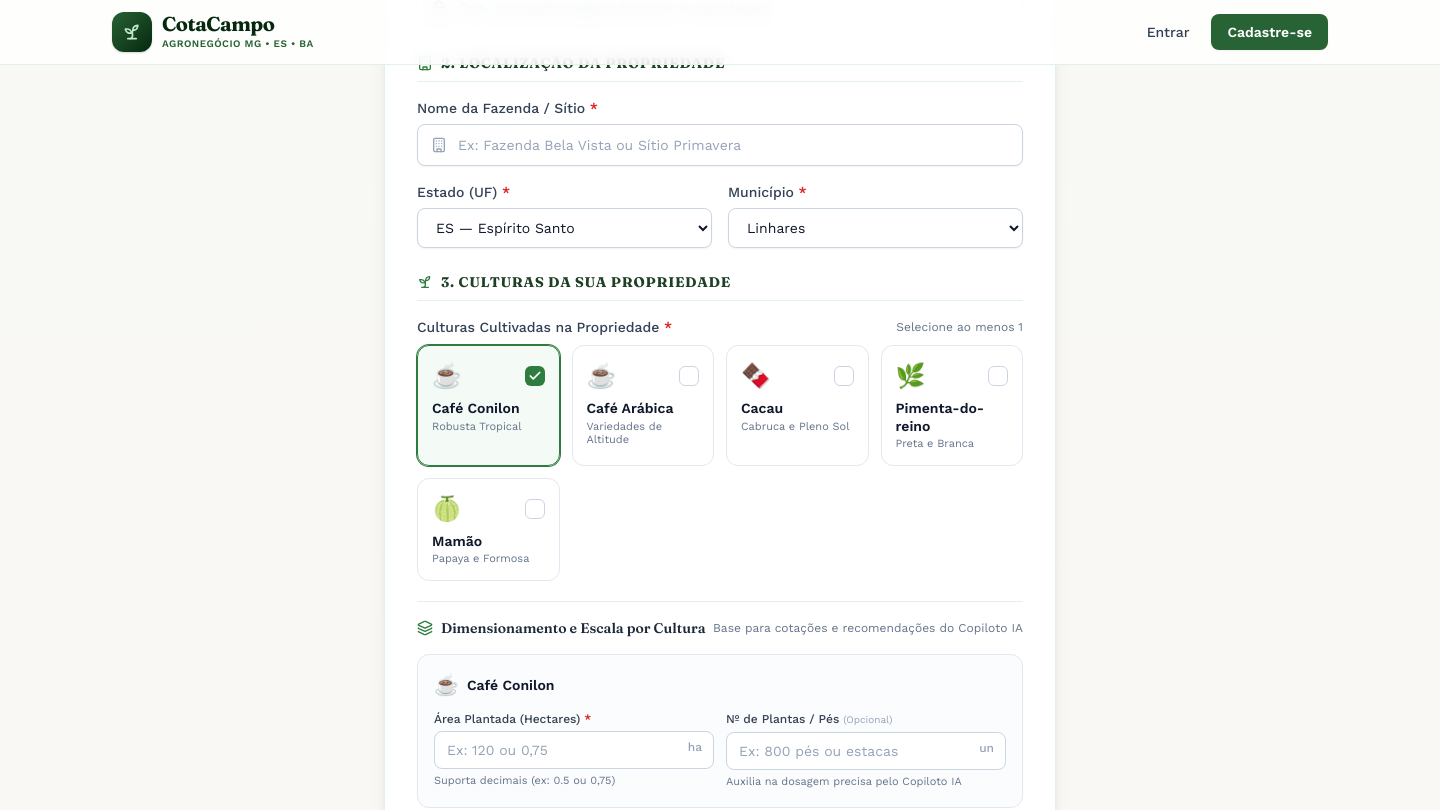
RegisterPage (US01 & US01.1 - Detalhamento de Área Plantada e Escala por Cultura) › Validação negativa: bloqueio de submissão e foco no primeiro campo com erro quando culturas vazias
This screenshot has width=1440, height=810.
(page scrolled)
Note: Desmarca a cultura Café Conilon inicial para deixar 0 culturas selecionadas
Click the checkbox labelled "☕ Café Conilon Robusta Tropical" at (488, 405), box [417,345,560,466]
(page scrolled)
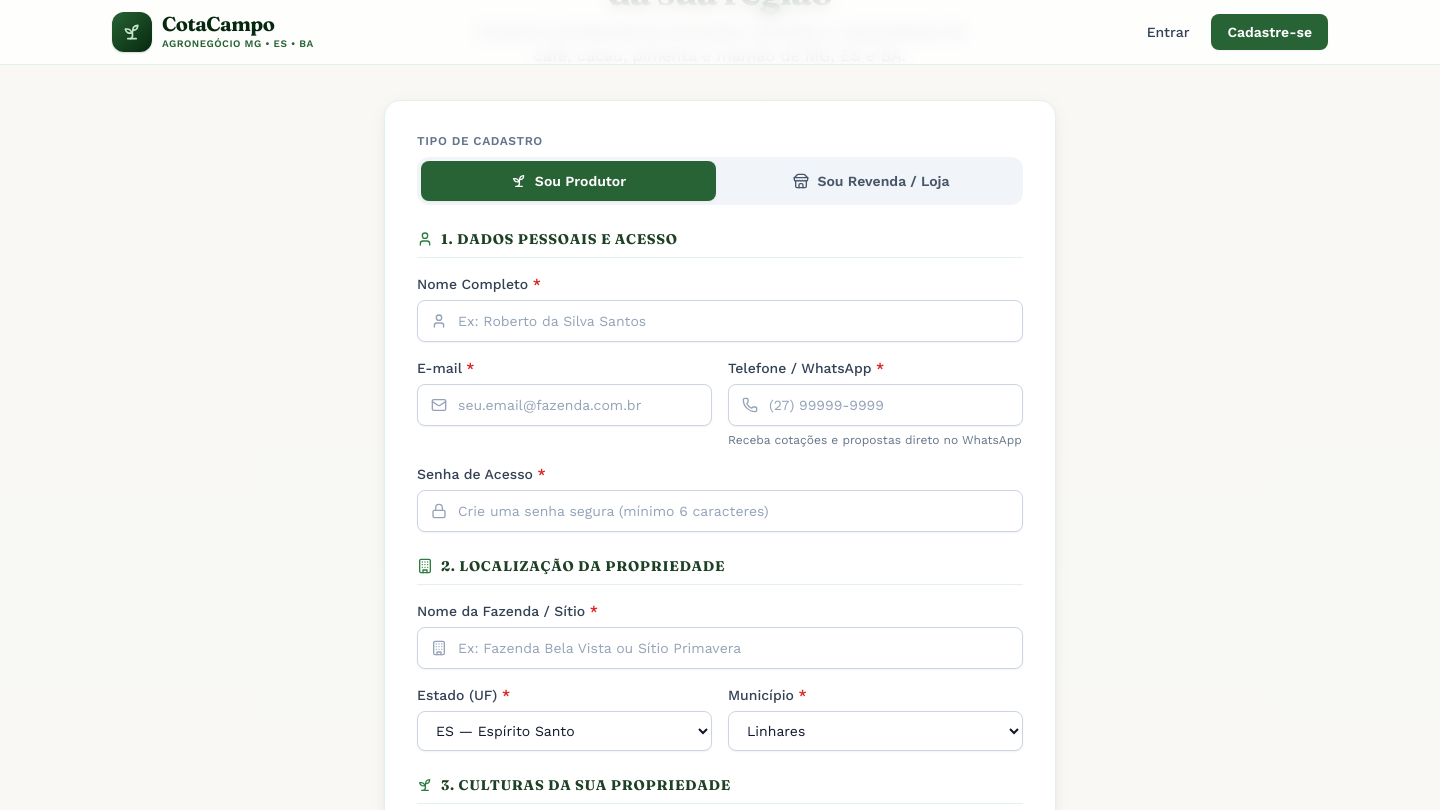
Note: Digita WhatsApp inválido
Type "123" into the field labelled "Telefone / WhatsApp *" at (876, 405), box [728,384,1023,426]
(page scrolled)
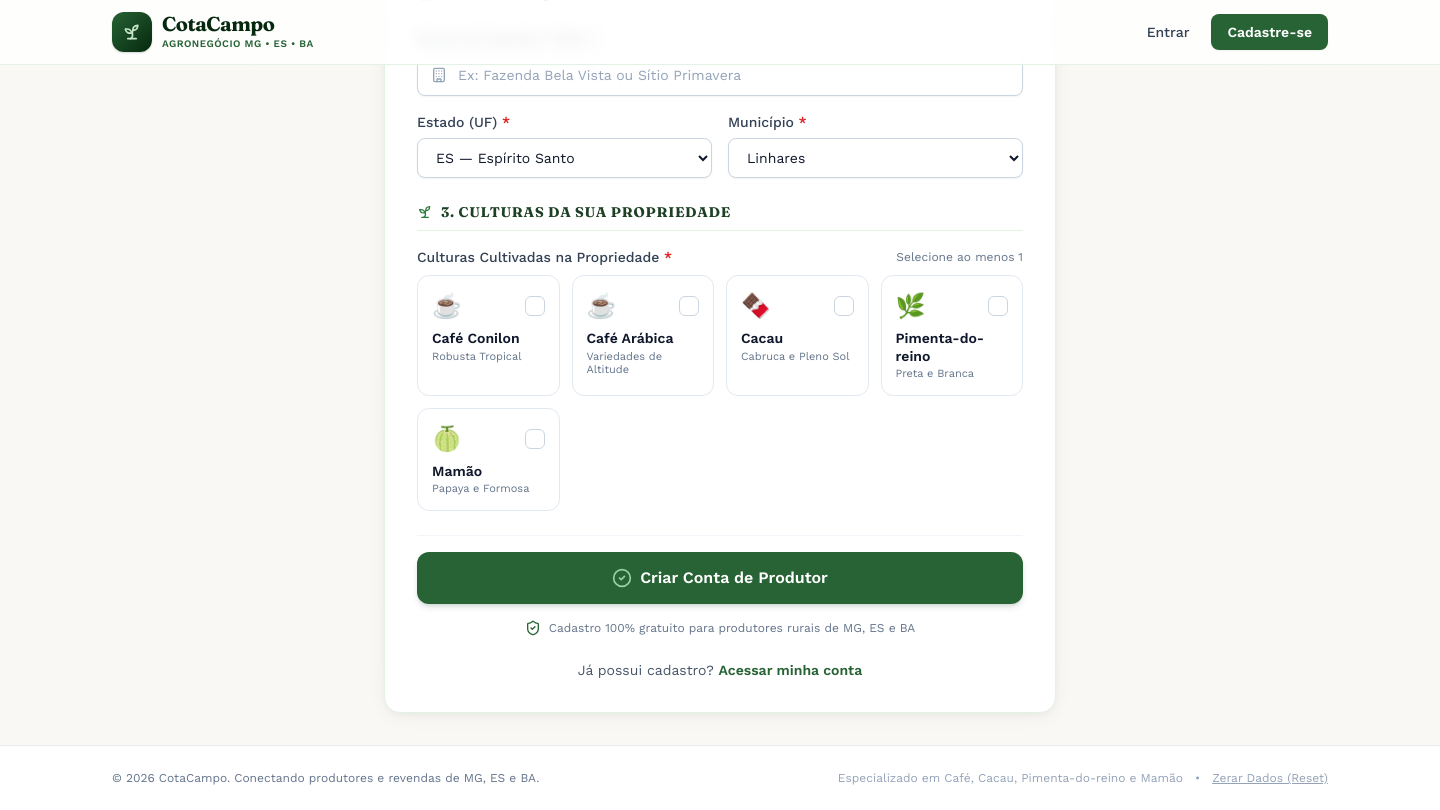
Note: Clica no botão de criar conta
Click the button "Criar Conta de Produtor" at (720, 578), box [417,552,1023,604]
(page scrolled)
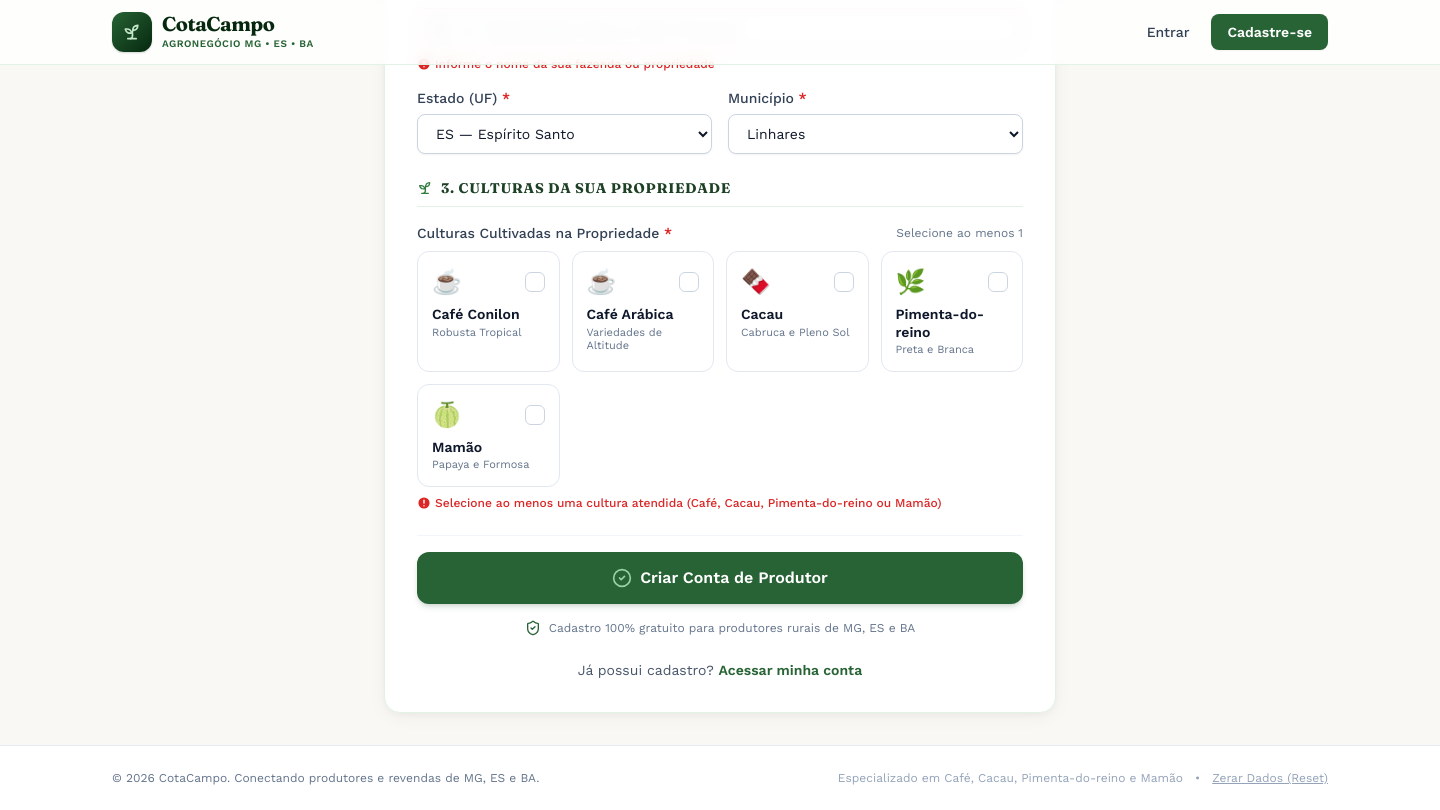
Now the text "Selecione ao menos uma cultura atendida" is shown, box [435,496,942,510]
